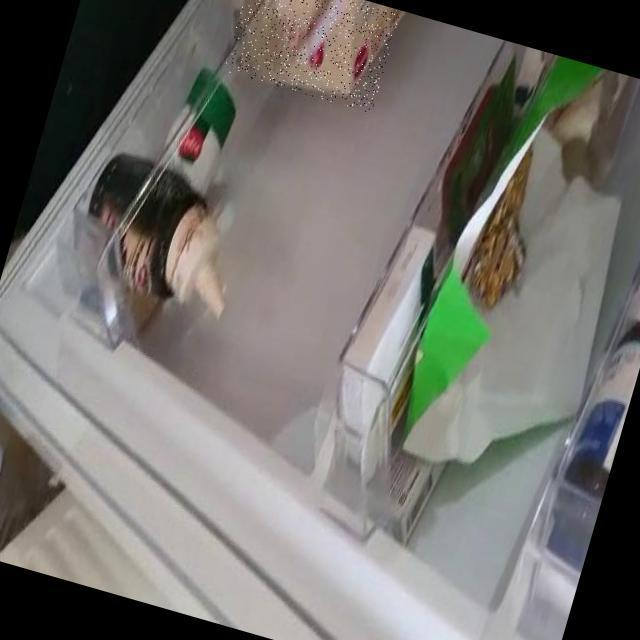milk: (222, 0, 398, 112)
